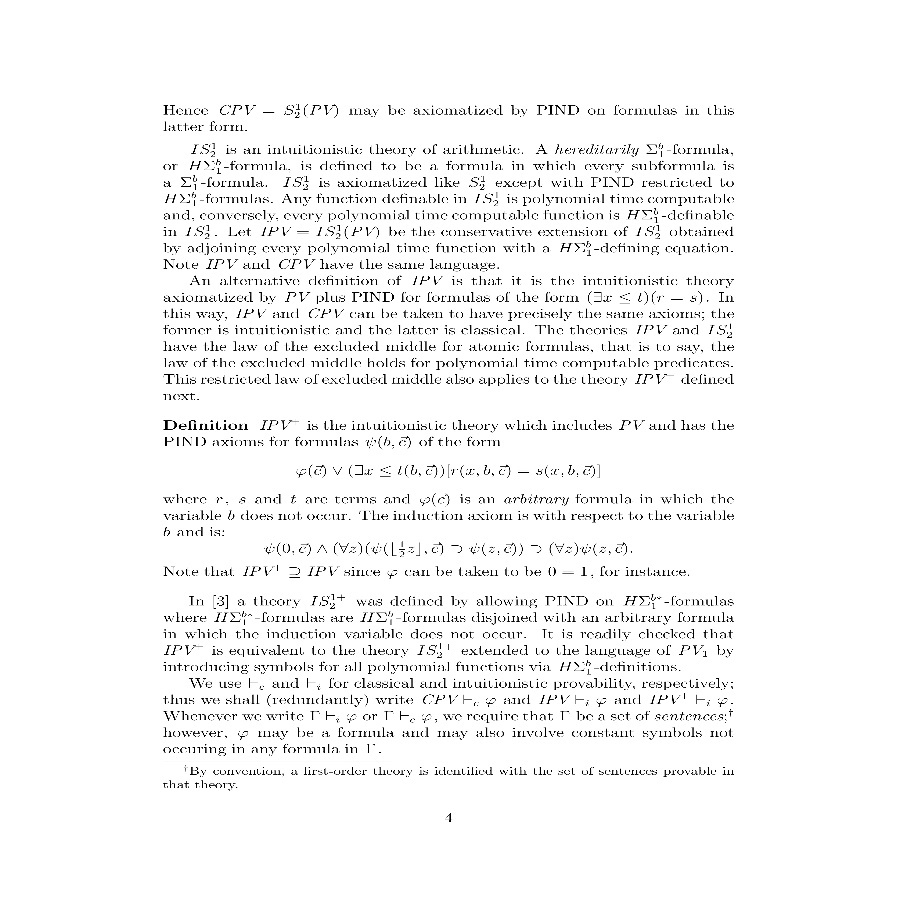eq: (261, 537, 631, 560), (292, 459, 605, 485), (242, 565, 340, 579)
